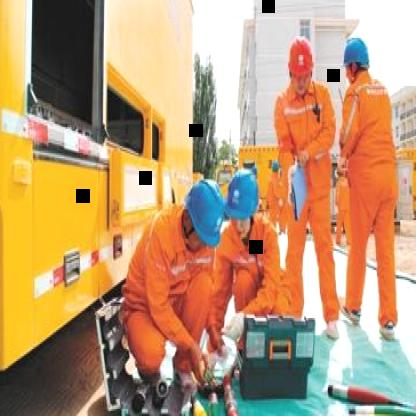helmet: (180, 175, 226, 263), (225, 165, 261, 241), (340, 31, 370, 87), (286, 36, 314, 92)
